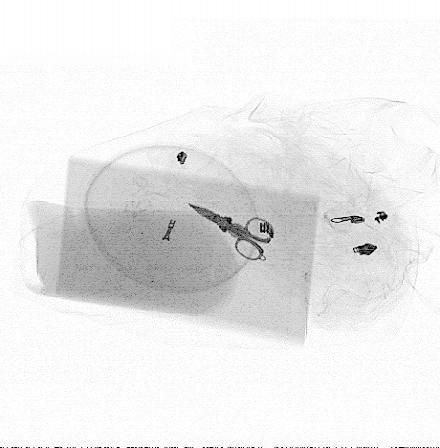Scissors: (186, 202, 276, 262)
